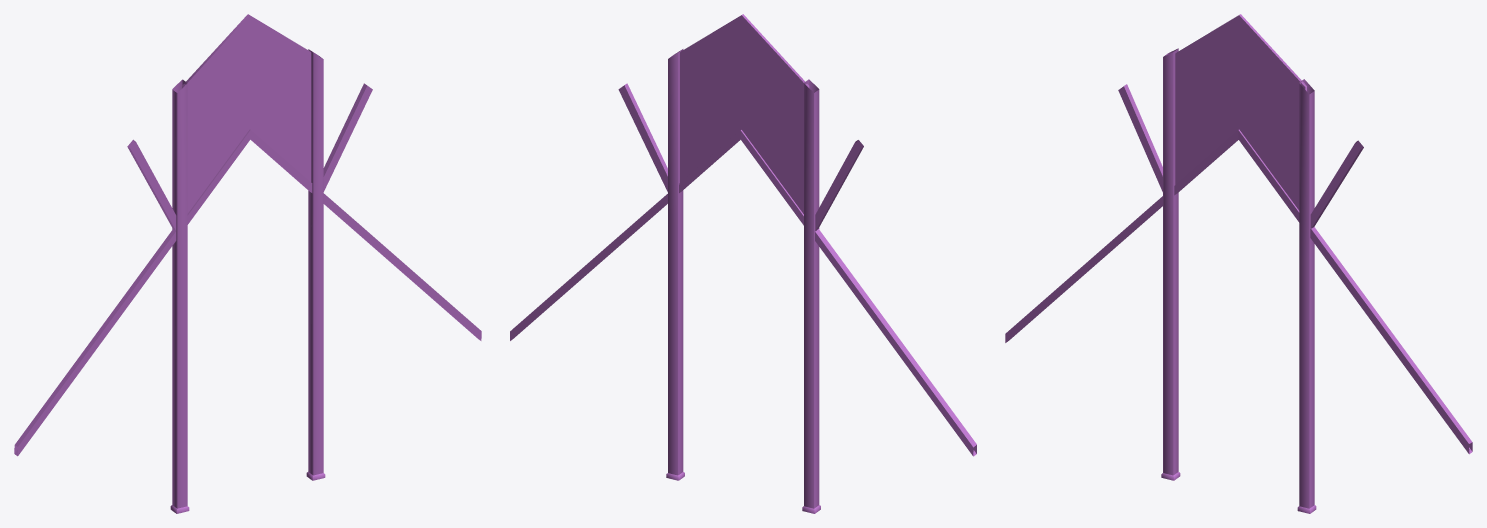
Rendered from Church1_Deco_Column_A.fbx.
3 views of the same model, side by side, from view 1: azimuth 30°, elevation 25°; view 2: azimuth 150°, elevation 25°; view 3: azimuth 330°, elevation 25° (orthographic).
Visible parts, largest first — view 1: Church1_Deco_Column_A; view 2: Church1_Deco_Column_A; view 3: Church1_Deco_Column_A.
Part boxes in pixels (x1=…): Church1_Deco_Column_A: x1=14, y1=14, x2=481, y2=513; Church1_Deco_Column_A: x1=510, y1=14, x2=976, y2=513; Church1_Deco_Column_A: x1=1005, y1=14, x2=1472, y2=513.
Size of the model in its own units: 16.7 by 16.48 by 0.4.
